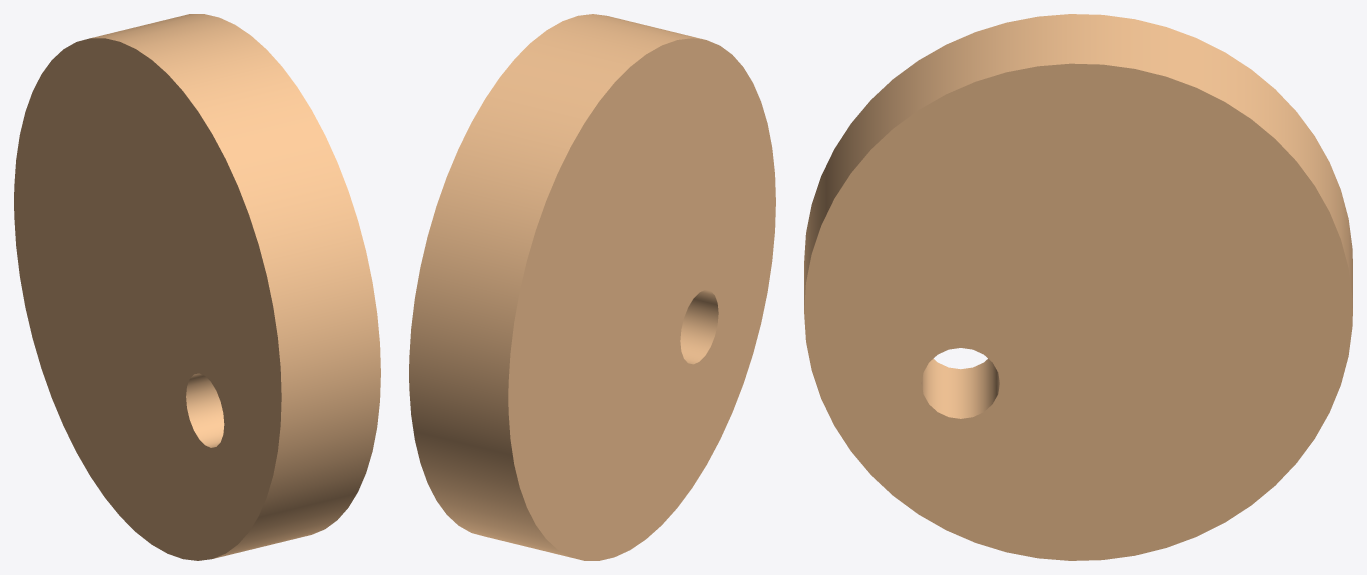
The model's file is tissue_1.obj.
3 views of the same model, side by side, from view 1: azimuth 30°, elevation 25°; view 2: azimuth 150°, elevation 25°; view 3: azimuth 270°, elevation 25° (orthographic). The views are drawn at different scales.
Visible parts, largest first — view 1: mesh 1 Tissue_1; view 2: mesh 1 Tissue_1; view 3: mesh 1 Tissue_1.
Part boxes in pixels (<box>): mesh 1 Tissue_1: <box>14,14,380,560</box>; mesh 1 Tissue_1: <box>409,14,775,560</box>; mesh 1 Tissue_1: <box>804,14,1352,560</box>.
Size of the model in its own units: 0.03 by 0.1399 by 0.14.
